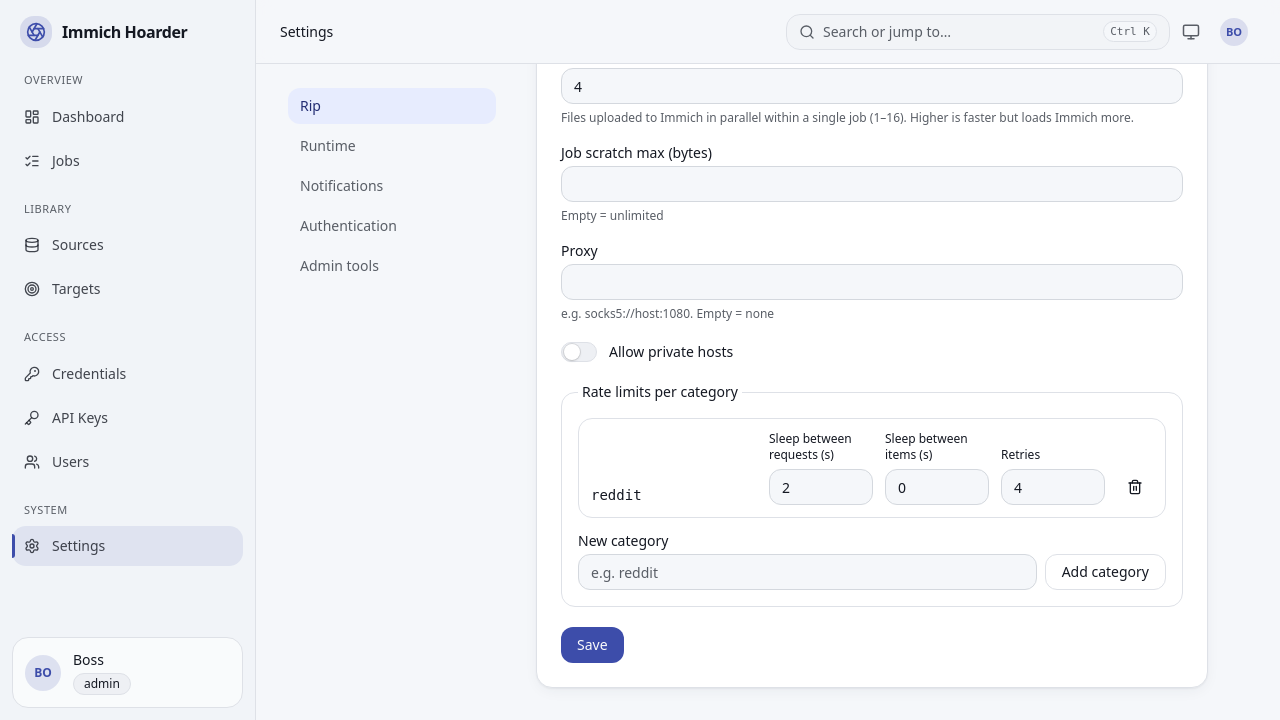
Test: settings › rate limit field errors show per row
(page scrolled)
Clear the number field labelled "Retries" at (1053, 487), box [1001,469,1105,505]
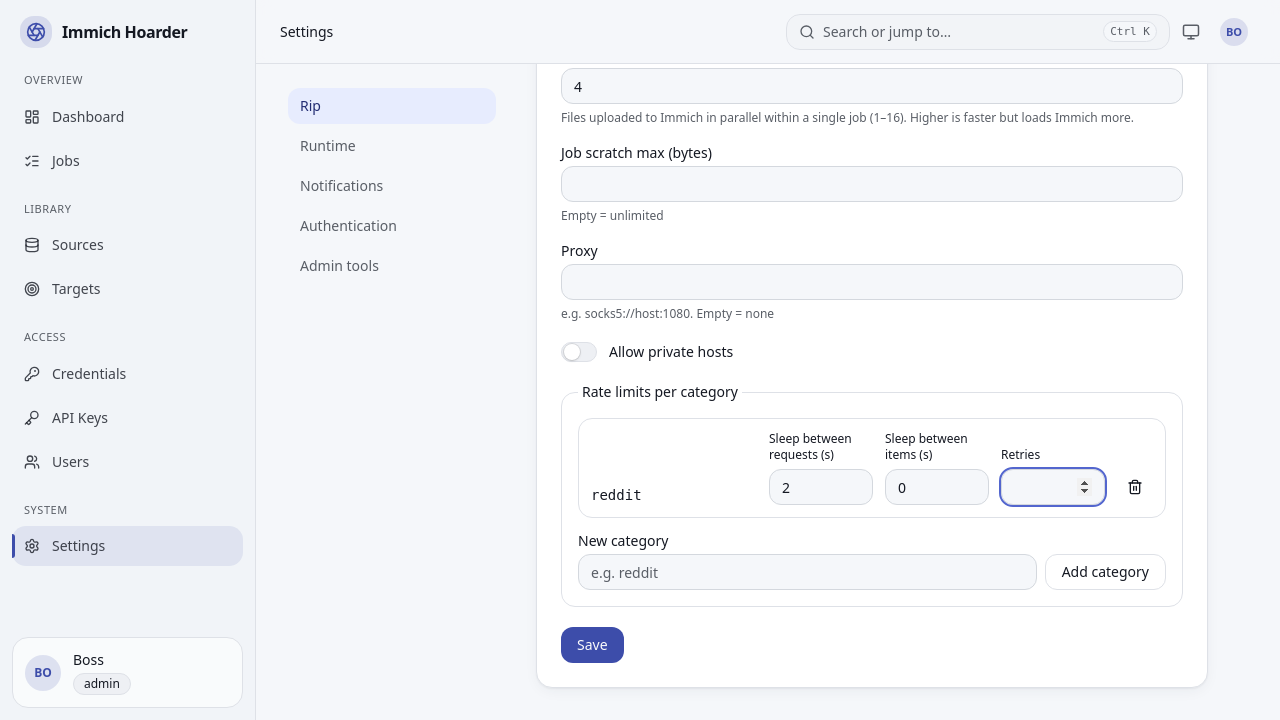
Click the button "Save" at (592, 645), box [561,627,624,663]
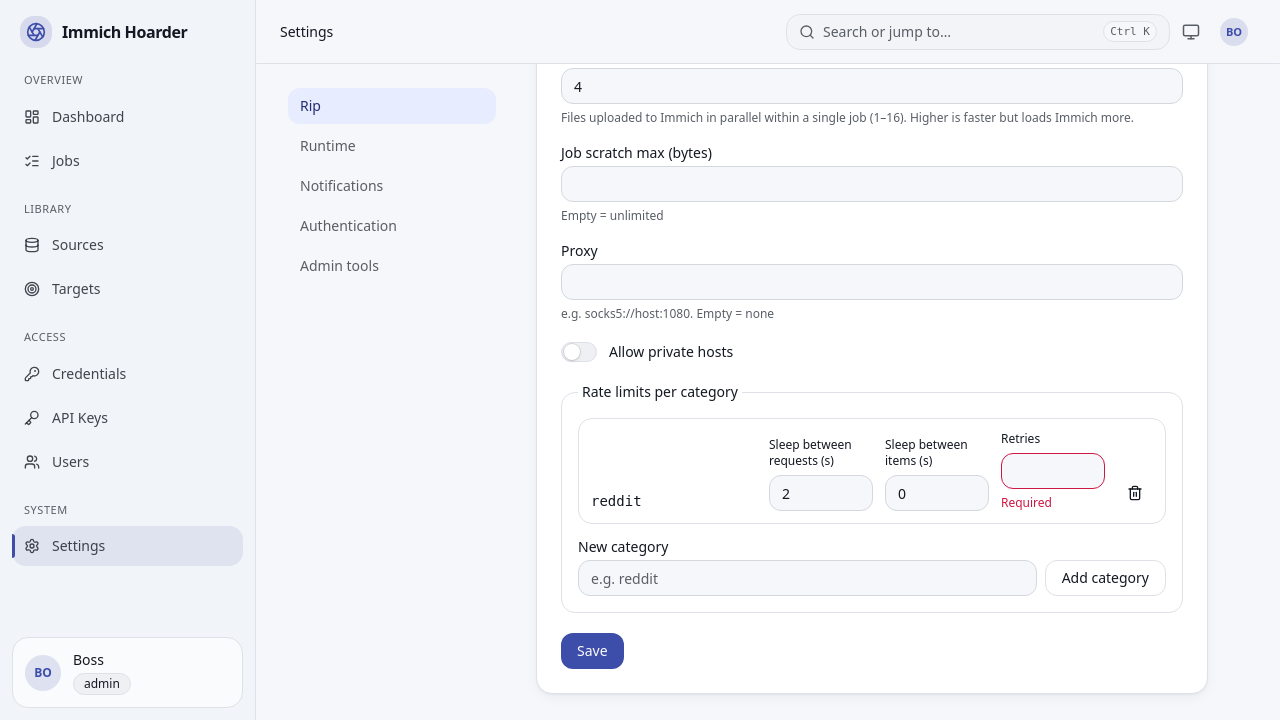
Now the text "Required" is shown, box [1001,494,1052,511]
Type "9" into the number field labelled "Retries Required" at (1053, 471), box [1001,453,1105,489]
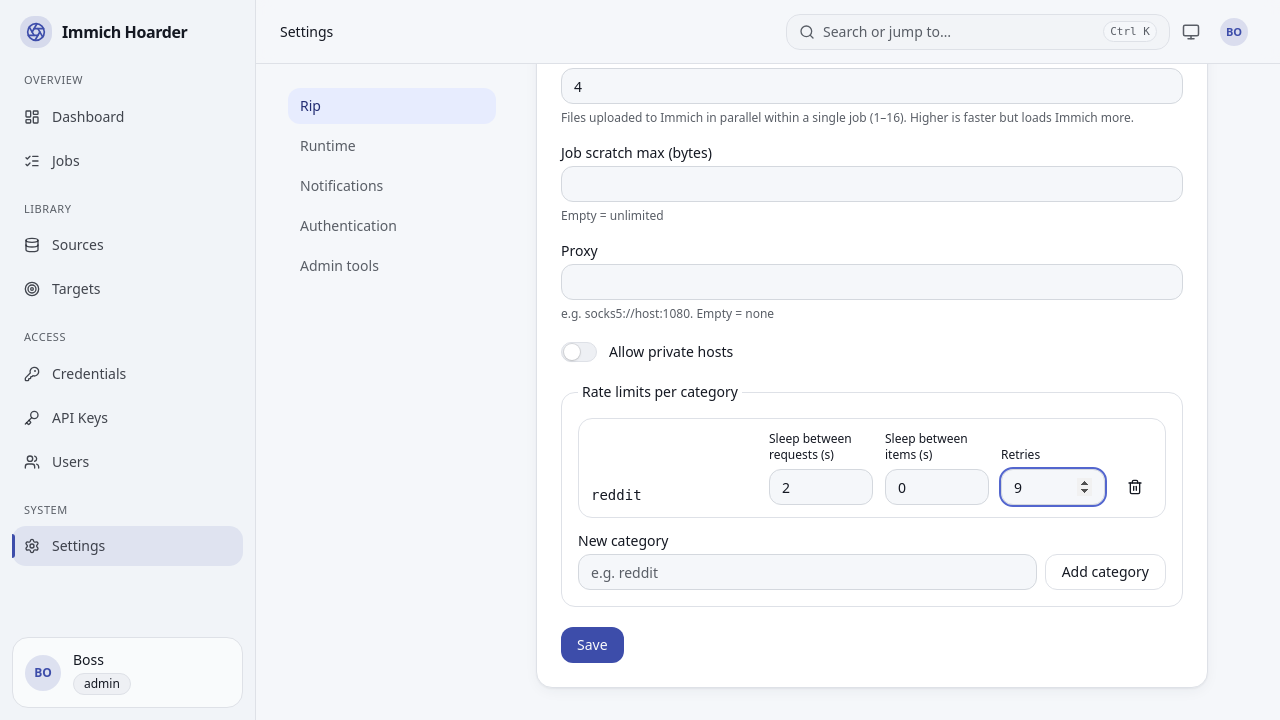
Click the button "Save" at (592, 645), box [561,627,624,663]
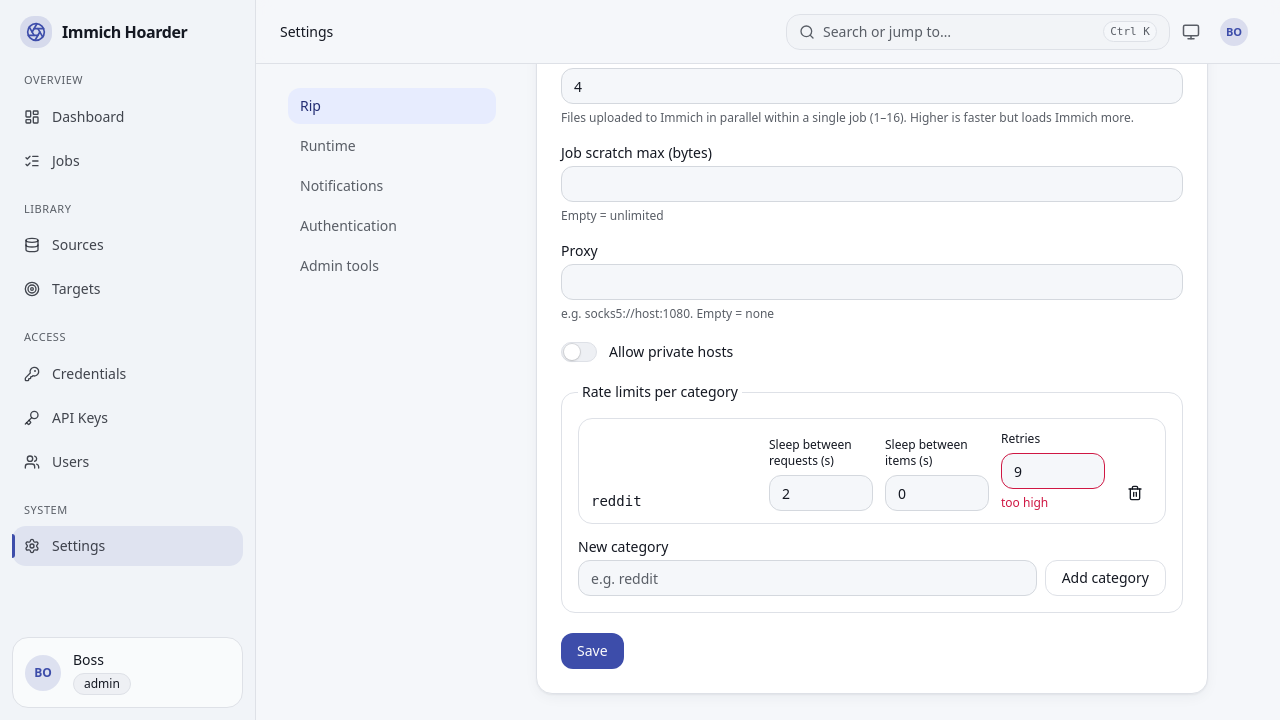
Now the text "too high" is shown, box [1001,494,1048,511]
